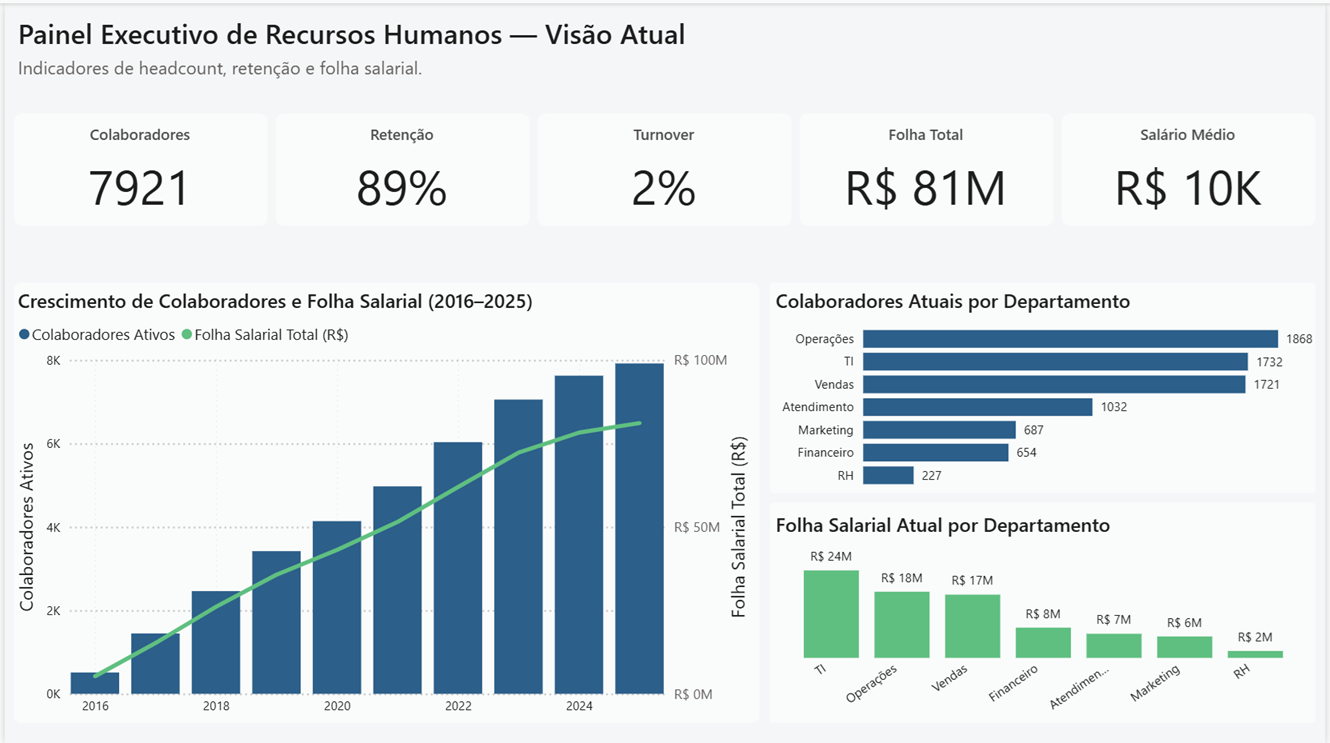

This screenshot's page, from the dashboard's own definition file:
{"tool":"powerbi","page":{"name":"Executiva","canvas":[1280,720],"ordinal":1},"visuals":[{"type":"cardVisual","fields":{"Data":["_Measures.HC Atual","_Measures.% Ativos","_Measures.Turnover YTD %","_Measures.Folha Total Mensal (Atual)","_Measures.Salário Médio Atual"]},"box":[2.9,99.8,1272.7,120.2],"z":1000},{"type":"lineClusteredColumnComboChart","title":"Crescimento de Colaboradores e Folha Salarial (2016–2025)","fields":{"Y2":["_Measures.Folha Total Mensal (em Data)"],"Category":["date_dim.Year"],"Y":["_Measures.HC Snapshot (d)"]},"box":[8.2,275.1,721.7,424],"z":6000},{"type":"barChart","title":"Colaboradores Atuais por Departamento","fields":{"Category":["dim_job.department"],"Y":["_Measures.HC Atual"]},"box":[742.3,275.1,530.8,205.3],"z":7000},{"type":"clusteredColumnChart","title":"Folha Salarial Atual por Departamento","fields":{"Category":["dim_job.department"],"Y":["_Measures.Folha Total Mensal (Atual)"]},"box":[742.3,492.8,530.8,206.4],"z":8000},{"type":"textbox","title":"Painel Executivo de Recursos Humanos — Visão Atual","box":[7.7,11,670.8,65.8],"z":9000}]}

Visuals, with their boxes in screenshot pixels (x1, y1, x2, y2), scaled from the page's 1280x720 canvas onto the 1330x743 screenshot:
cardVisual - _Measures.HC Atual x _Measures.% Ativos: 3:103:1325:227
"Crescimento de Colaboradores e Folha Salarial (2016–2025)" lineClusteredColumnComboChart: 9:284:758:721
"Colaboradores Atuais por Departamento" barChart: 771:284:1323:496
"Folha Salarial Atual por Departamento" clusteredColumnChart: 771:509:1323:722
"Painel Executivo de Recursos Humanos — Visão Atual" textbox: 8:11:705:79
